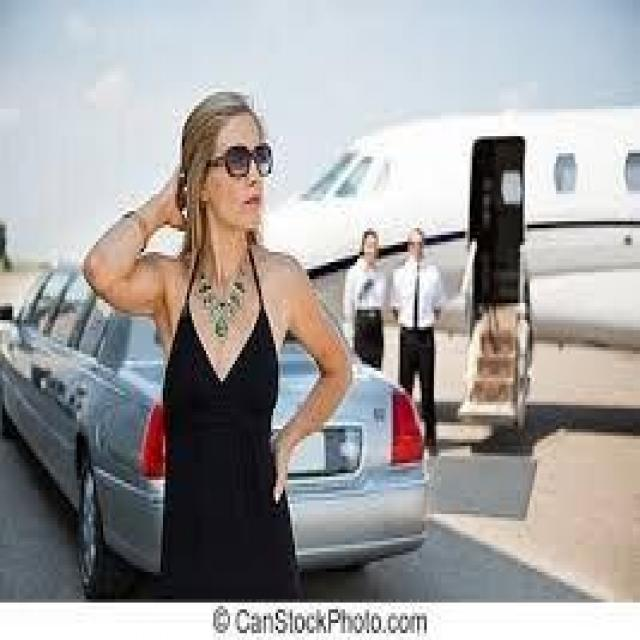person: (72, 64, 347, 596), (319, 190, 393, 500), (377, 215, 468, 460)
